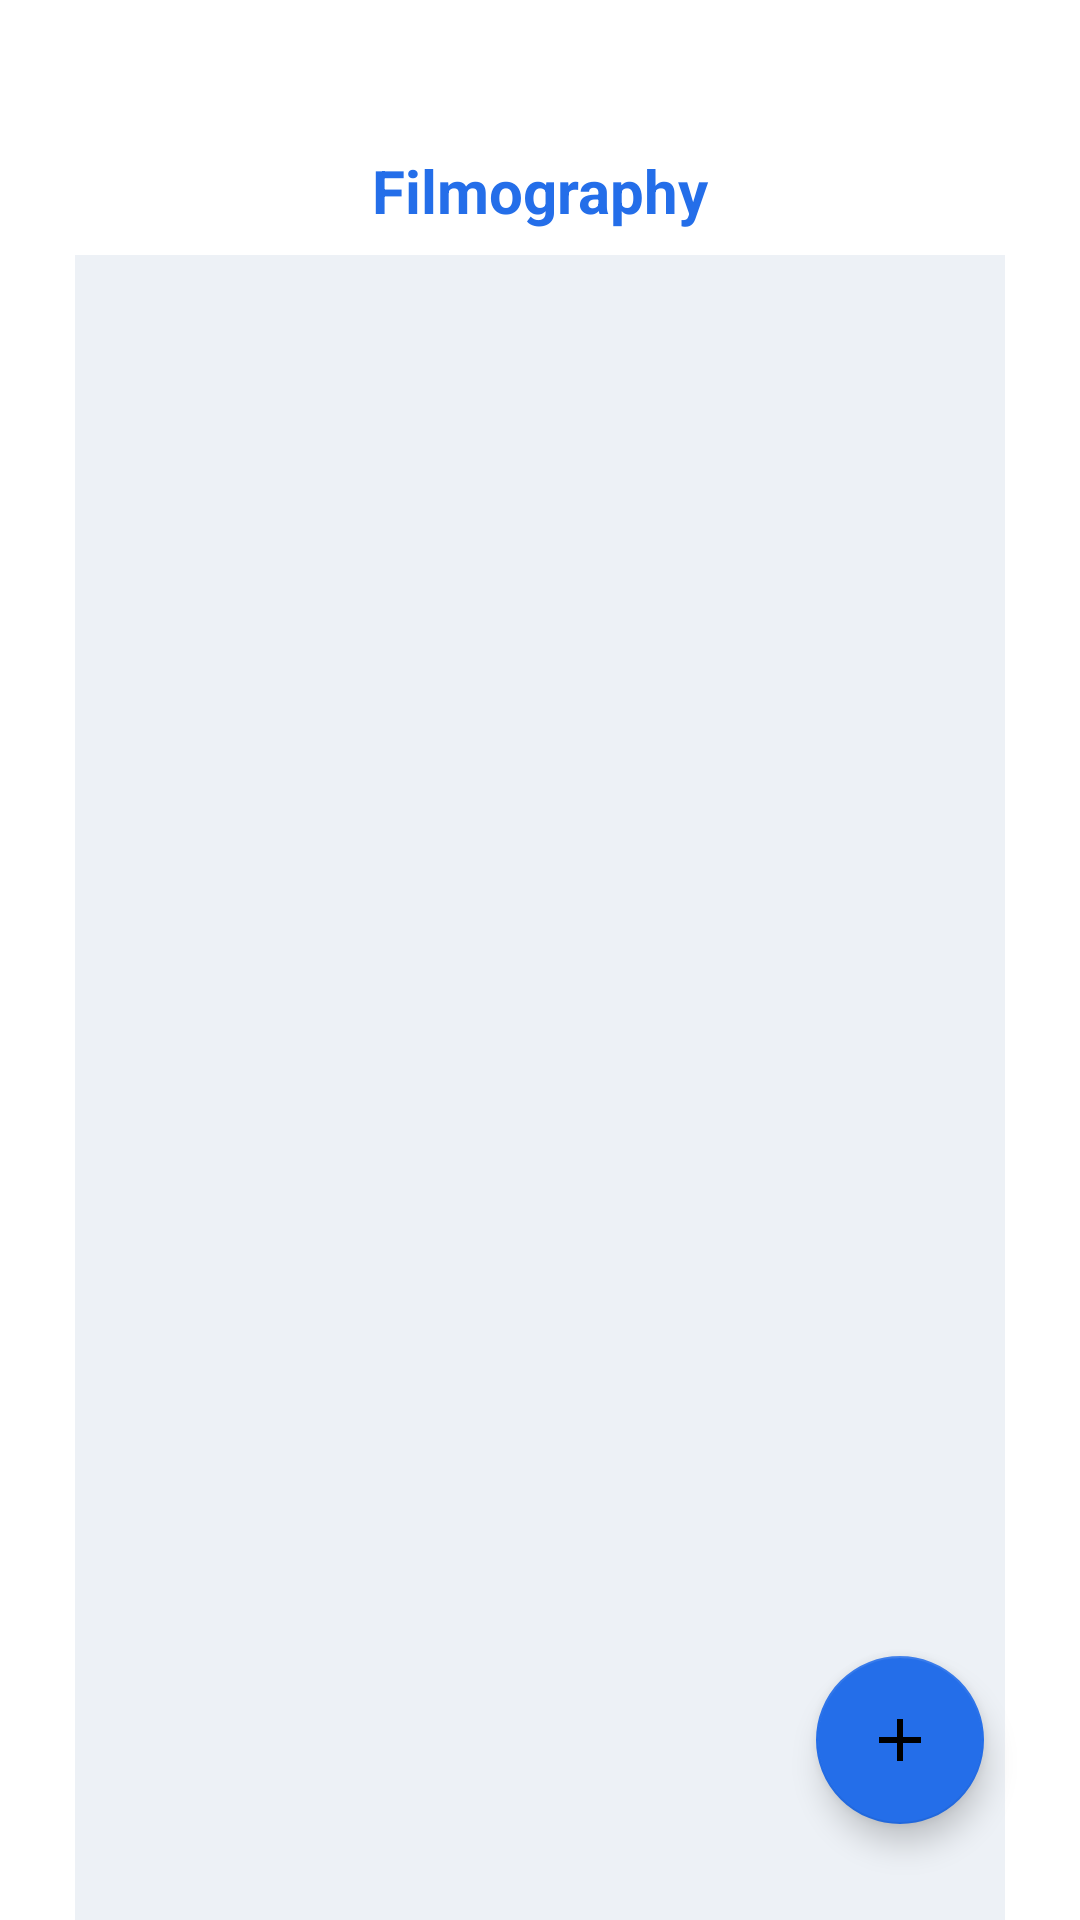

Locate icon controls on the screen. Image size 1080w x 1920h, boxes as (x1, y1, x2, y2).
Add film: (816, 1656, 984, 1824)
